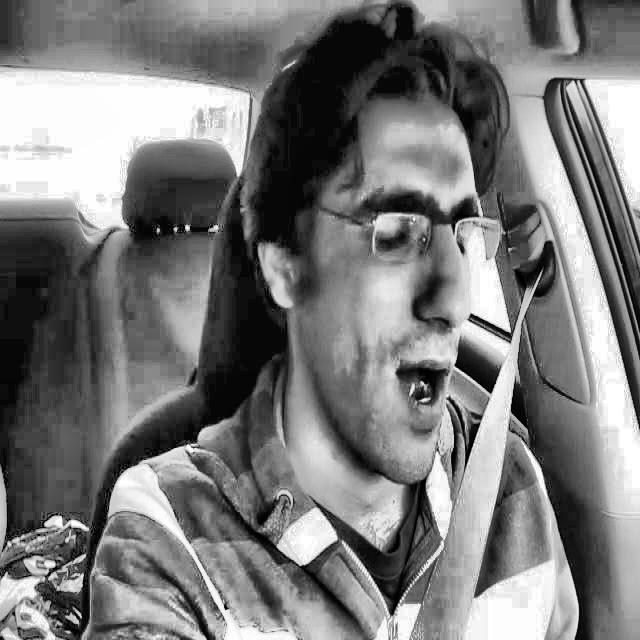closed_eyes: (364, 204, 435, 275)
open_mouth: (377, 342, 470, 453)
